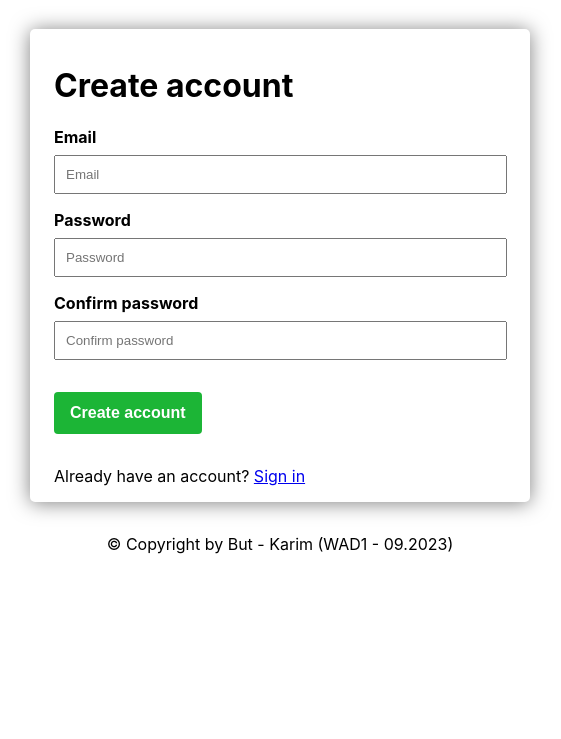
User Sign › handles invalid data
In the field with placeholder "Email": (281, 174) [54, 155, 507, 194], type "test@example.com"
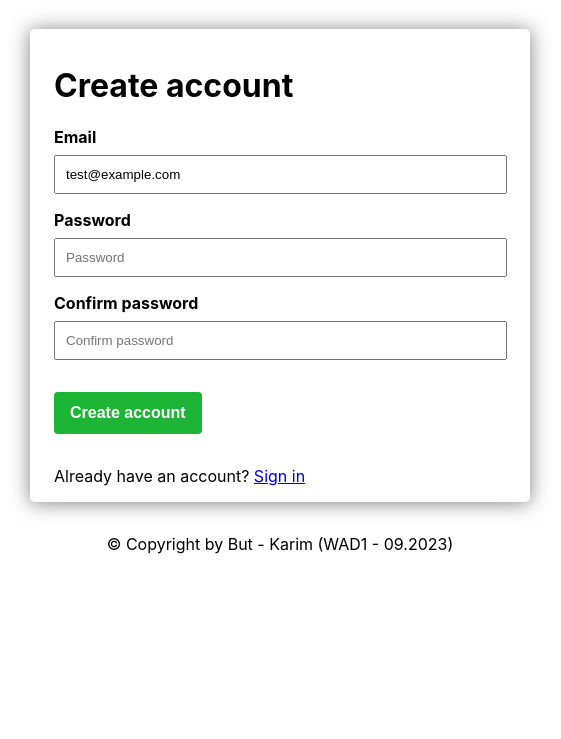
In the password field with placeholder "Password": (281, 257) [54, 238, 507, 277], type "123"
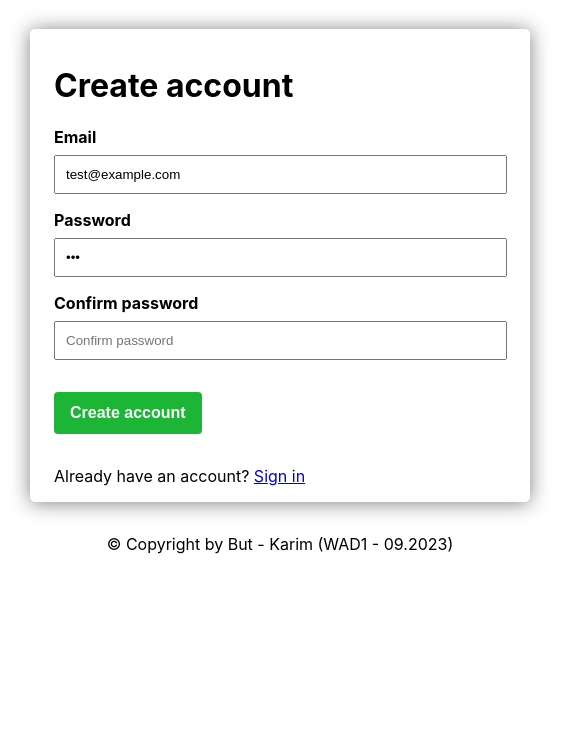
In the password field with placeholder "Confirm password": (281, 340) [54, 321, 507, 360], type "123"
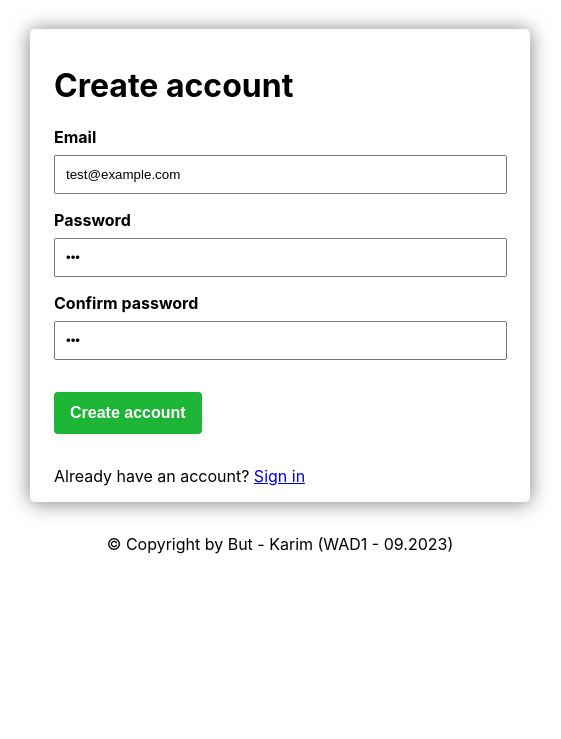
Click the button "Create account": (128, 413) [54, 392, 202, 434]
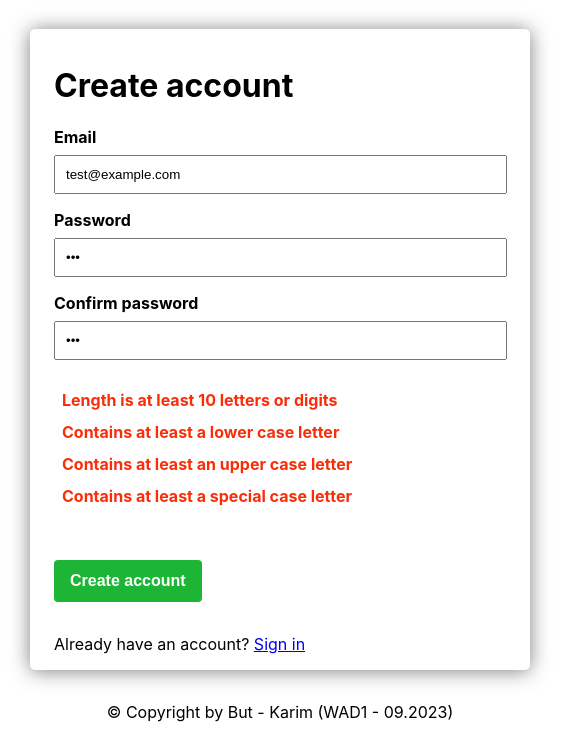
Expected: the text "Length is at least 10 letters or digits" is shown, [62, 390, 338, 410]
Expected: the text "Contains at least a lower case letter" is shown, [62, 422, 339, 442]
Expected: the text "Contains at least an upper case letter" is shown, [62, 454, 352, 474]
